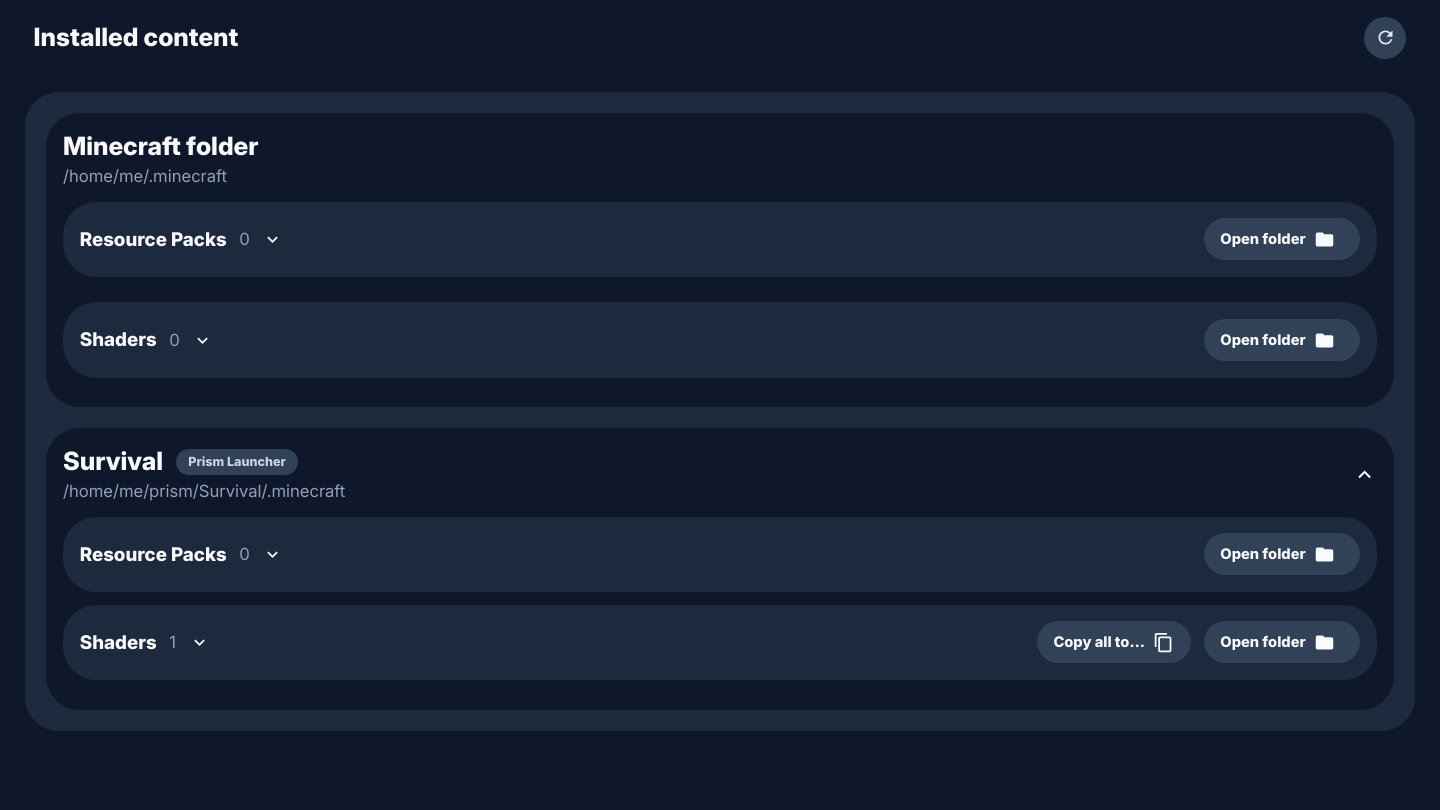
Test: InstalledContentPage › names a Prism instance and tags it as Prism Launcher
This screenshot has width=1440, height=810.
Check: the text "Survival" is shown, box [63, 445, 163, 479]
Check: the text "Prism Launcher" is shown, box [176, 449, 298, 474]
Click the 2nd text "Shaders" at (118, 642), box [80, 628, 157, 657]
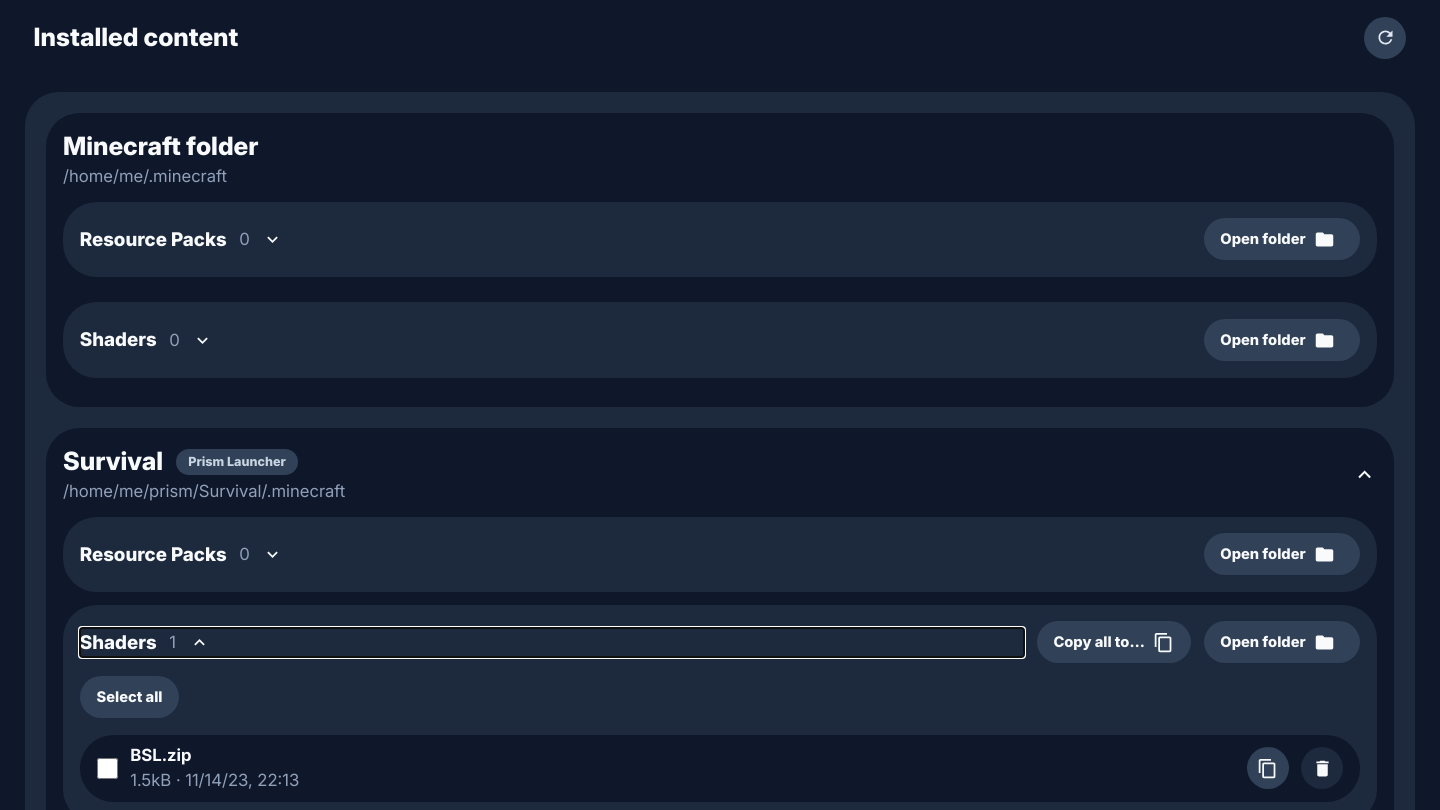
Check: the text "BSL.zip" is shown, box [130, 745, 192, 765]
